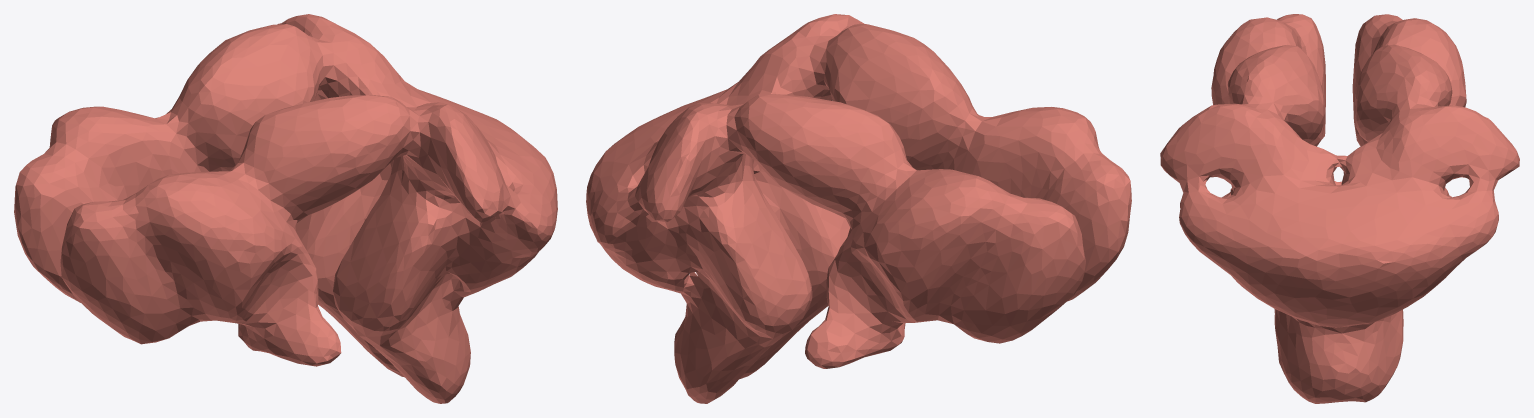
3 renders of one model, left to right at view 1: azimuth 30°, elevation 25°; view 2: azimuth 150°, elevation 25°; view 3: azimuth 270°, elevation 25°, orthographic. The views are drawn at different scales.
Parts seen in each view (by area): view 1: 467.obj; view 2: 467.obj; view 3: 467.obj.
Part boxes in pixels (box(x1,y1,x2,y2)): 467.obj: box(14, 14, 557, 403); 467.obj: box(586, 14, 1131, 403); 467.obj: box(1160, 14, 1519, 403).
Size of the model in its own units: 3330 by 2313 by 2575.
